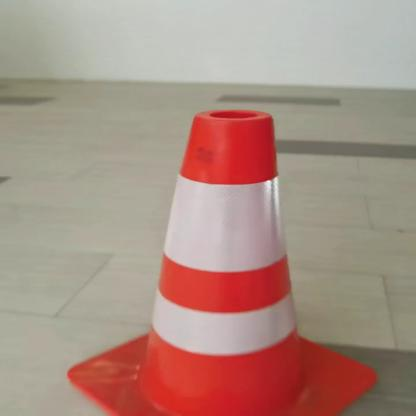cone: (63, 112, 385, 415)
